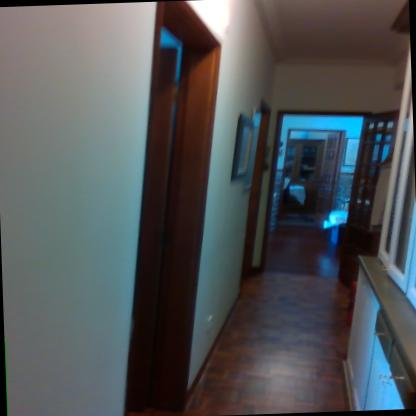open: (266, 98, 400, 251)
